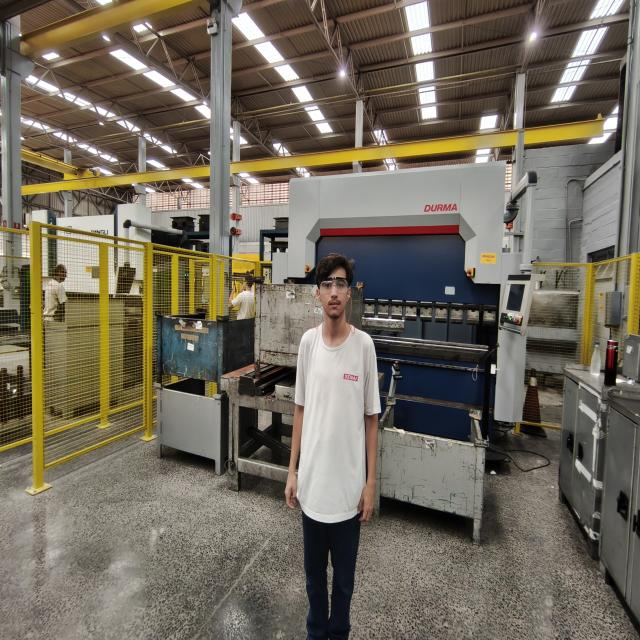oculos-epi: (318, 277, 348, 294)
